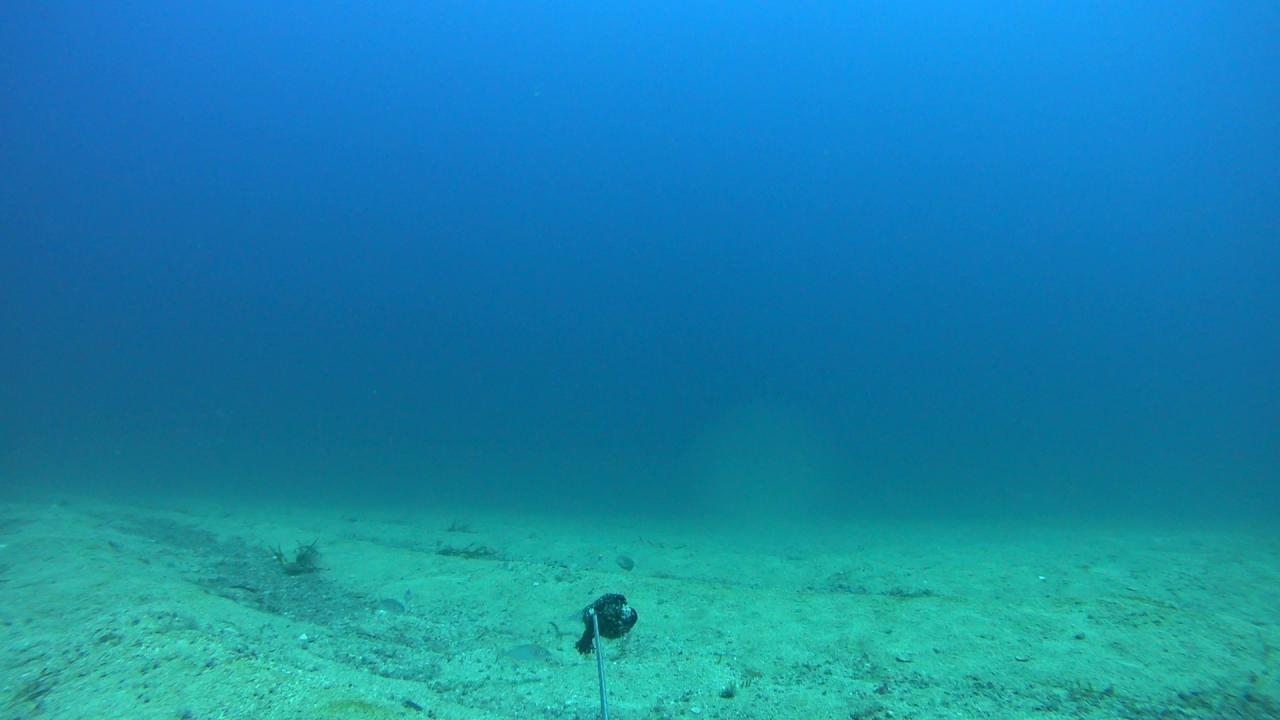pagellus: (494, 643, 552, 663), (371, 591, 406, 617)
